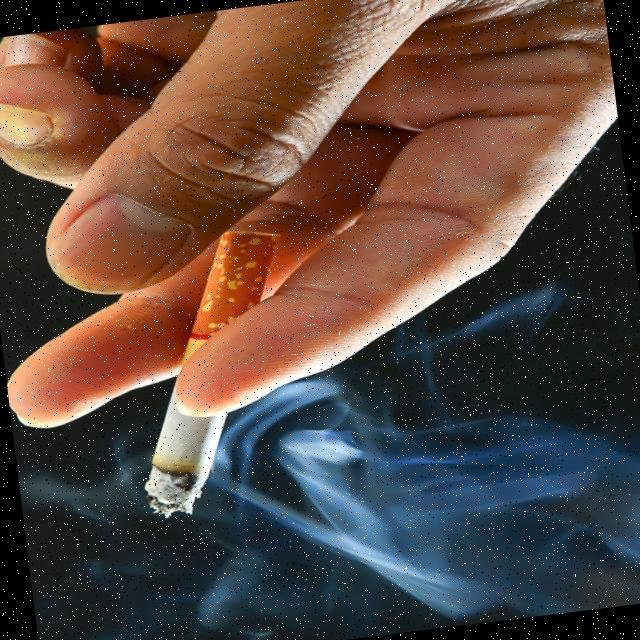cigarette: (93, 218, 334, 531)
